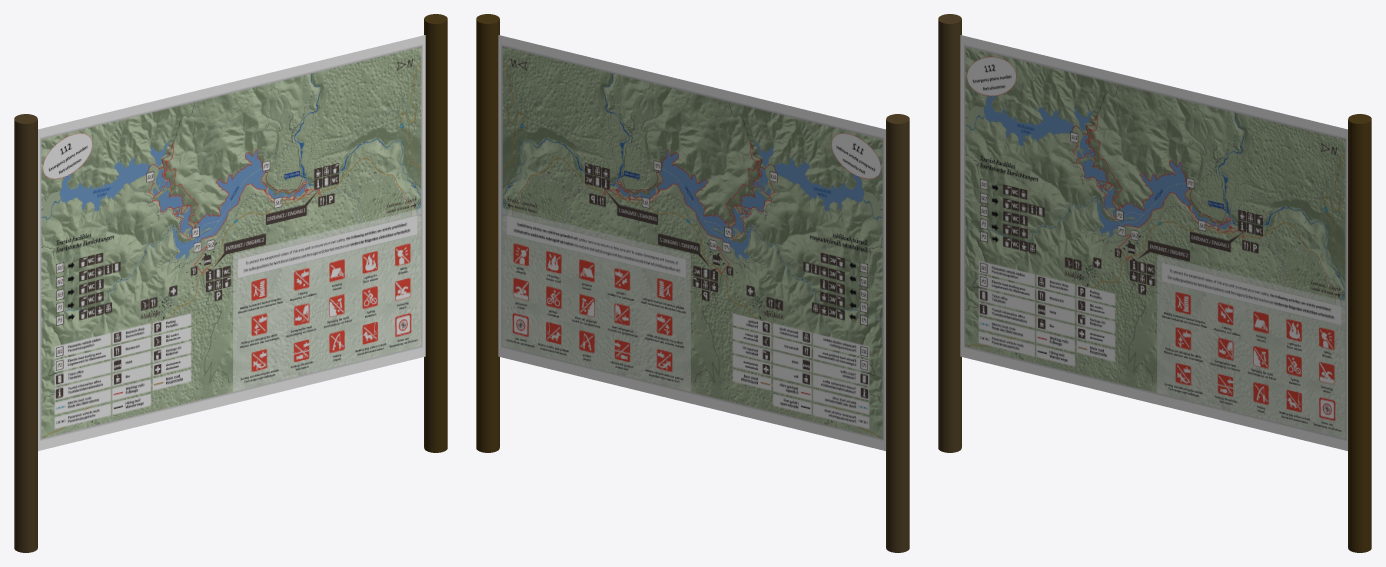
Rendered from Landmark_Croatia.glb.
The picture shows the model from 3 angles, left to right: view 1: azimuth 30°, elevation 25°; view 2: azimuth 150°, elevation 25°; view 3: azimuth 330°, elevation 25°; orthographic projection.
Parts seen in each view (by area): view 1: Plane, Cylinder, Cylinder.001; view 2: Plane, Cylinder, Cylinder.001; view 3: Plane, Cylinder.001, Cylinder.
Part boxes in pixels (left/top/right/bottom): Plane: left=38, top=35, right=425, bottom=450; Cylinder: left=14, top=114, right=37, bottom=552; Cylinder.001: left=424, top=14, right=447, bottom=452; Plane: left=498, top=35, right=885, bottom=450; Cylinder: left=886, top=114, right=909, bottom=552; Cylinder.001: left=476, top=14, right=499, bottom=452; Plane: left=960, top=35, right=1347, bottom=450; Cylinder.001: left=1348, top=114, right=1371, bottom=552; Cylinder: left=938, top=14, right=961, bottom=452.
Bounding box in the file's own units: 4.2 × 4 × 0.2.
Materials: 3 (1 with a texture image).
